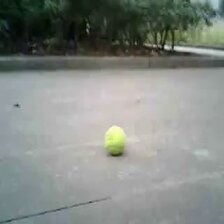tennis: (105, 125, 126, 154)
